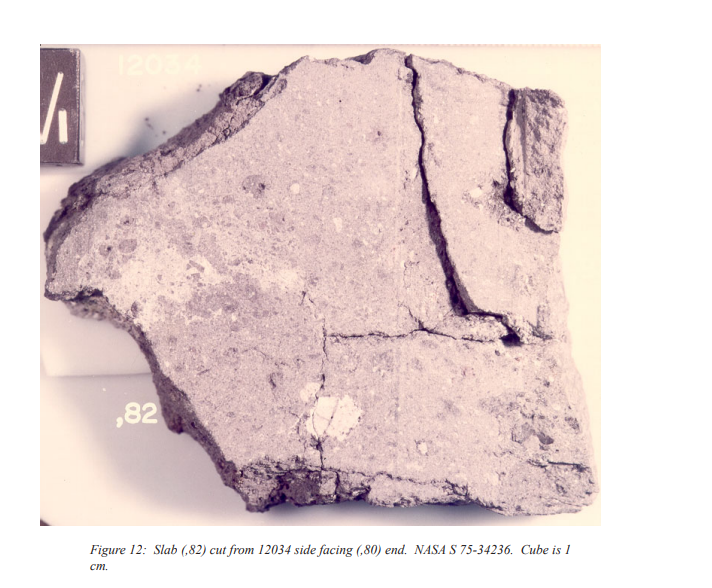Breccia: (38, 44, 601, 523)
